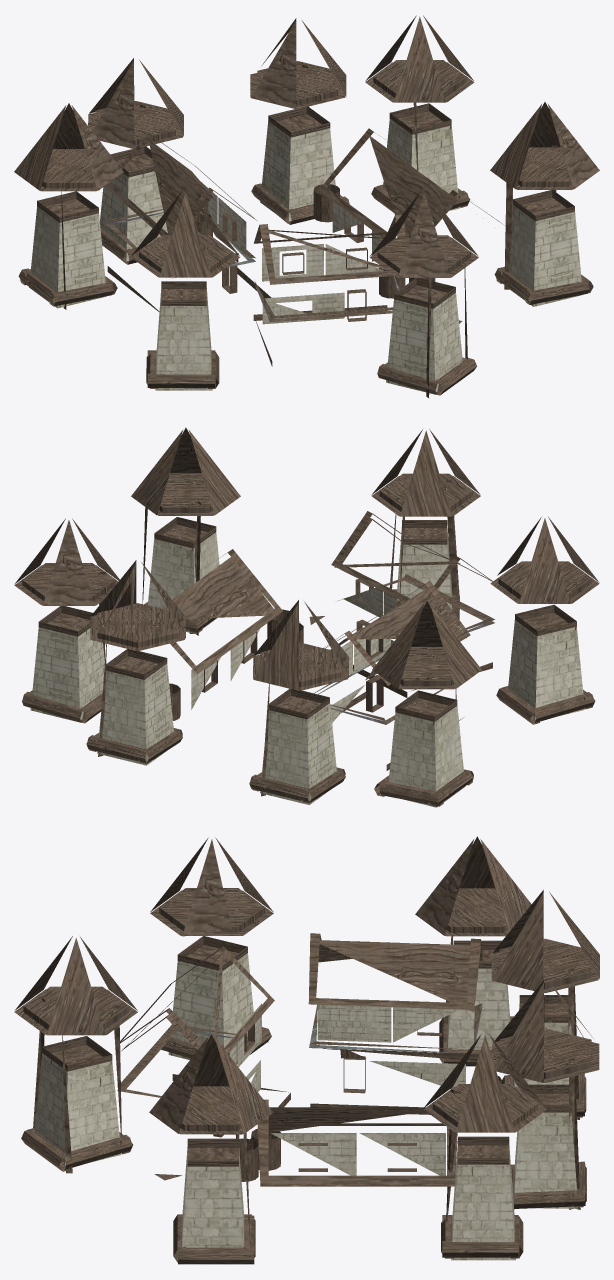
The model's file is test_village.glb.
3 views of the same model, one above another, from view 1: azimuth 30°, elevation 25°; view 2: azimuth 150°, elevation 25°; view 3: azimuth 270°, elevation 25° (orthographic). The views are drawn at different scales.
Parts seen in each view (by area): view 1: village; view 2: village; view 3: village.
Boxes of the visible parts, x1,y1,x2,y2 form: village: [14, 15, 599, 398]; village: [14, 427, 599, 807]; village: [14, 836, 599, 1264].
Bounding box in the file's own units: 1.7 × 0.6966 × 1.71.
1 material, 1 textured.
